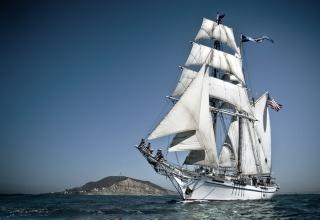fanchuan: (135, 9, 304, 204)
